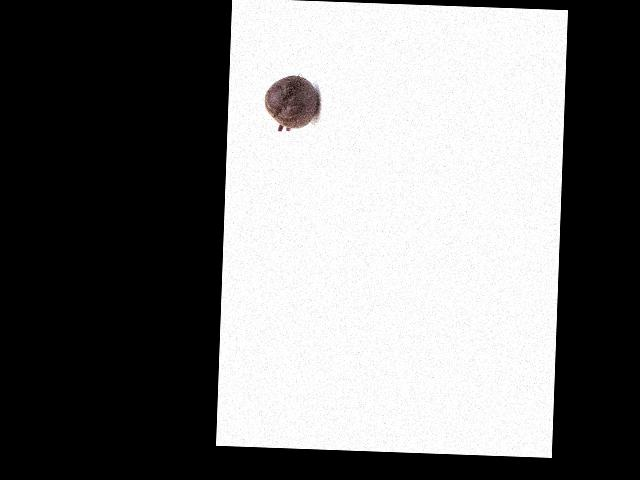beet: (263, 74, 320, 131)
